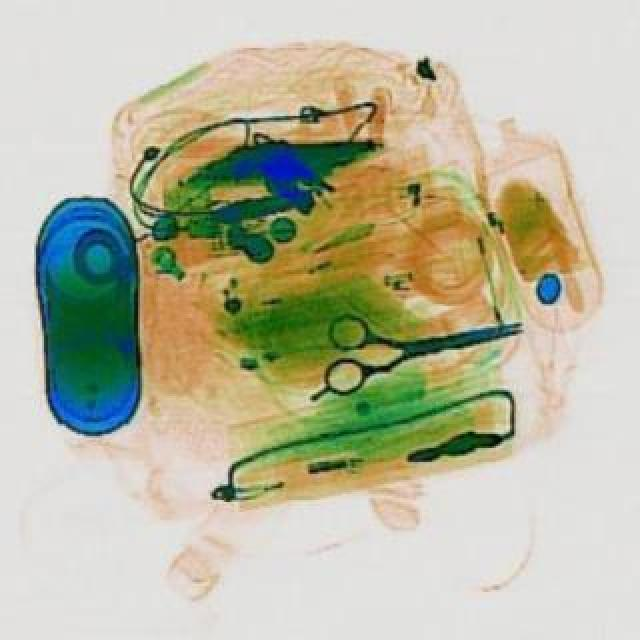pliers: (314, 294, 526, 394)
